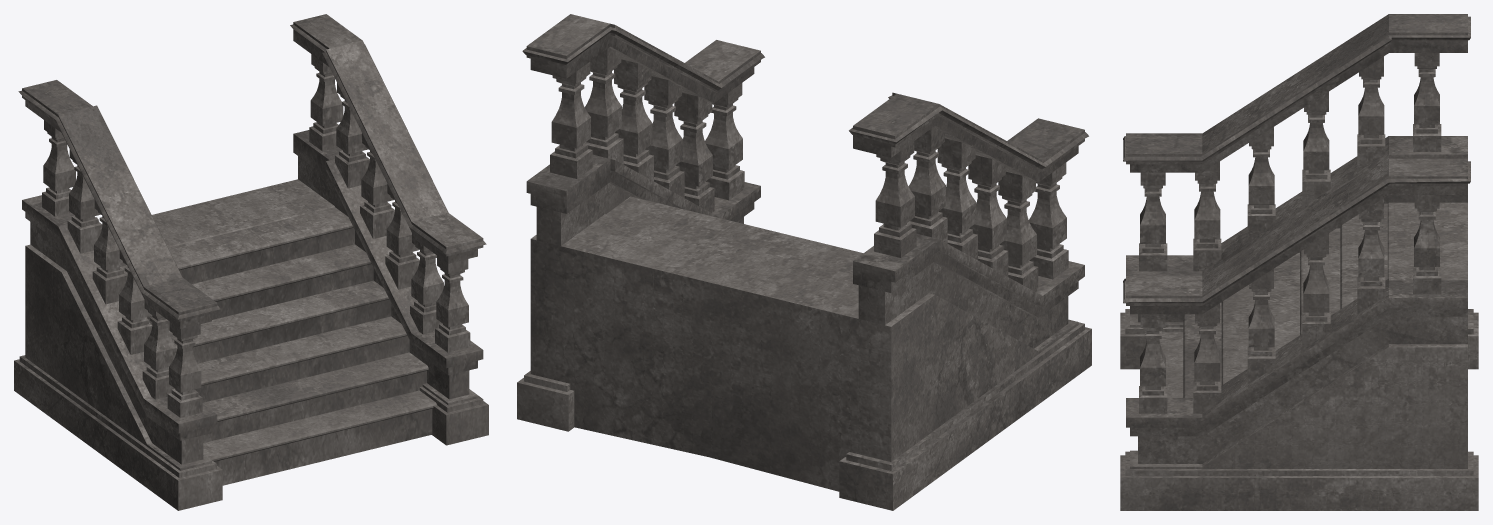
The model's file is SK7 STAIR EXT 1.fbx.
3 renders of one model, left to right at view 1: azimuth 30°, elevation 25°; view 2: azimuth 150°, elevation 25°; view 3: azimuth 270°, elevation 25°, orthographic. The views are drawn at different scales.
Visible parts, largest first — view 1: SK7 STAIR EXT 1; view 2: SK7 STAIR EXT 1; view 3: SK7 STAIR EXT 1.
Part boxes in pixels (bbox=[...]): SK7 STAIR EXT 1: bbox=[14, 14, 488, 510]; SK7 STAIR EXT 1: bbox=[517, 14, 1091, 510]; SK7 STAIR EXT 1: bbox=[1120, 14, 1478, 510].
Bounding box in the file's own units: 233 × 219 × 213.
